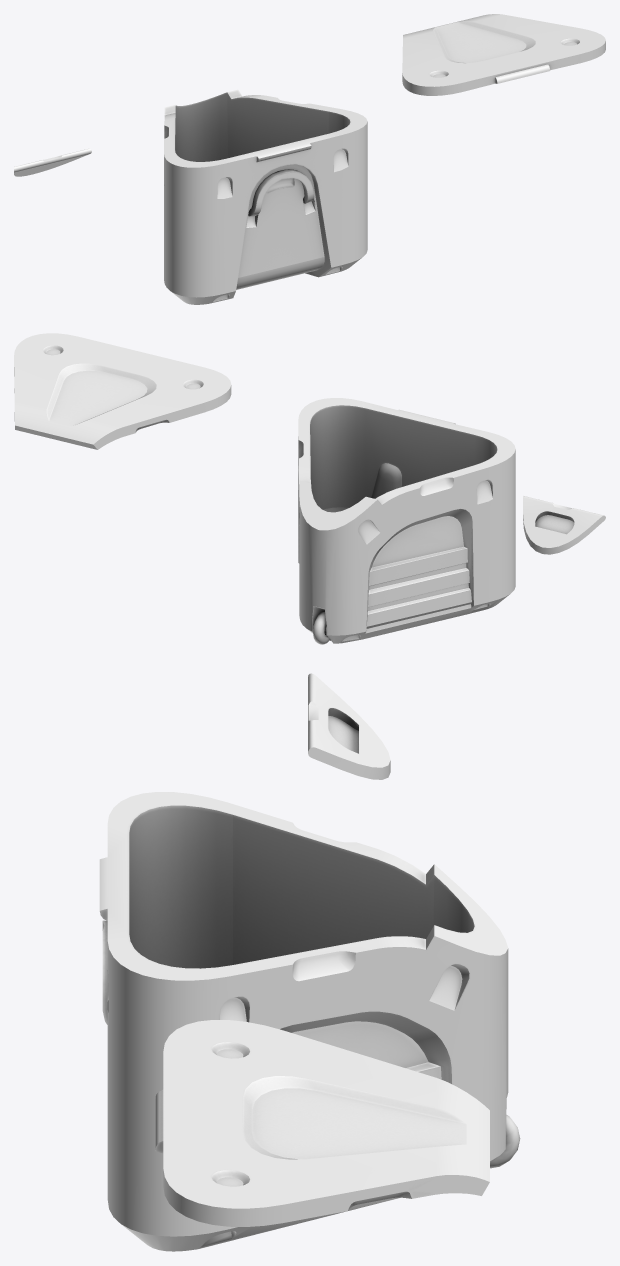
The model's file is refregerator_lp.fbx.
3 views of the same model, one above another, from view 1: azimuth 30°, elevation 25°; view 2: azimuth 150°, elevation 25°; view 3: azimuth 270°, elevation 25° (orthographic). The views are drawn at different scales.
Visible parts, largest first — view 1: main_shell_lp, top_lp, handle_lp, slise_cover_lp; view 2: main_shell_lp, top_lp, slise_cover_lp; view 3: main_shell_lp, top_lp, slise_cover_lp.
Part boxes in pixels (x1,y1,x2,y2): main_shell_lp: (164, 89, 367, 304); top_lp: (402, 14, 605, 95); handle_lp: (248, 169, 313, 216); slise_cover_lp: (14, 148, 91, 176); main_shell_lp: (298, 398, 515, 643); top_lp: (14, 333, 231, 449); slise_cover_lp: (523, 496, 605, 554); main_shell_lp: (99, 792, 508, 1251); top_lp: (155, 1020, 489, 1226); slise_cover_lp: (308, 673, 390, 779).
Size of the model in its own units: 118 by 30.56 by 37.99.
